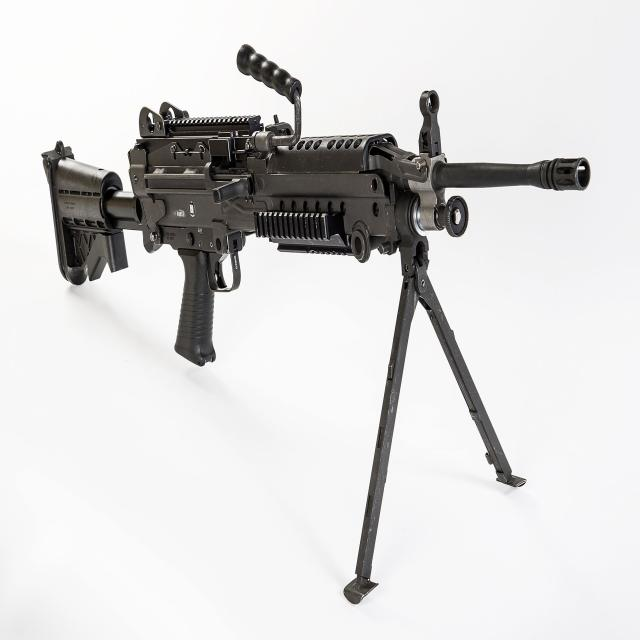Weapon: (42, 44, 590, 603)
